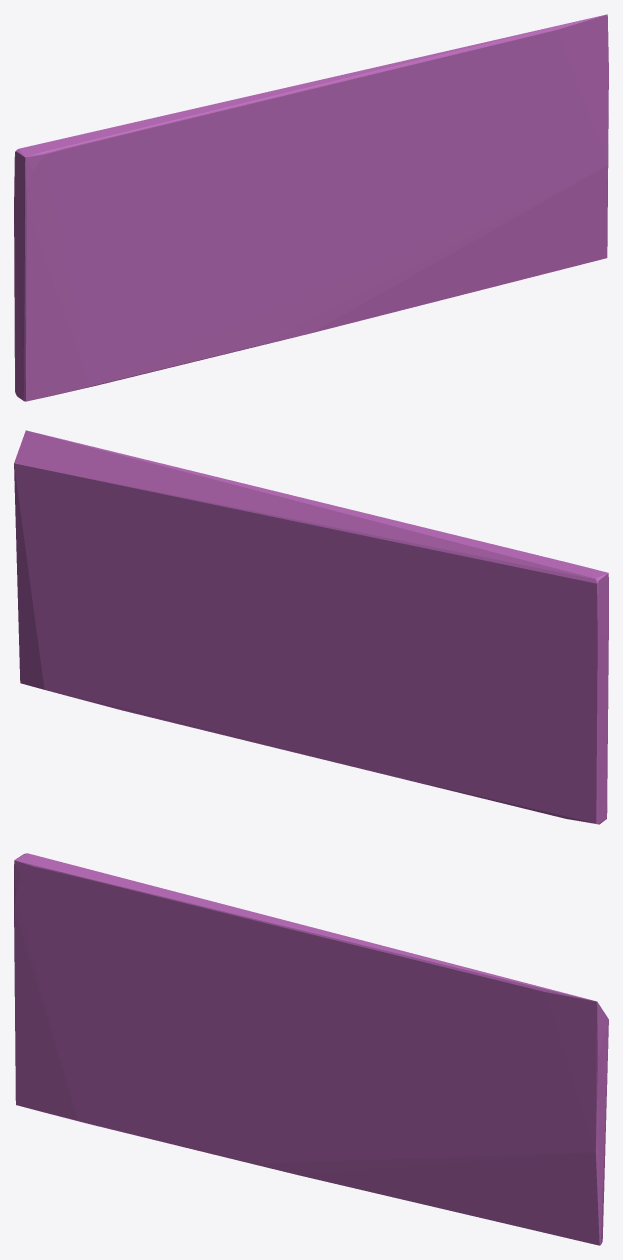
The model's file is misc_boards_wooden_a02.glb.
3 views of the same model, one above another, from view 1: azimuth 30°, elevation 25°; view 2: azimuth 150°, elevation 25°; view 3: azimuth 330°, elevation 25° (orthographic).
Visible parts, largest first — view 1: geometry_0; view 2: geometry_0; view 3: geometry_0.
Part boxes in pixels (x1=…): geometry_0: x1=14, y1=14, x2=608, y2=401; geometry_0: x1=14, y1=430, x2=608, y2=824; geometry_0: x1=14, y1=853, x2=608, y2=1245.
Size of the model in its own units: 0.4797 by 0.1934 by 0.017.
